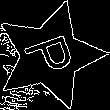P_E: (18, 29, 81, 82)
